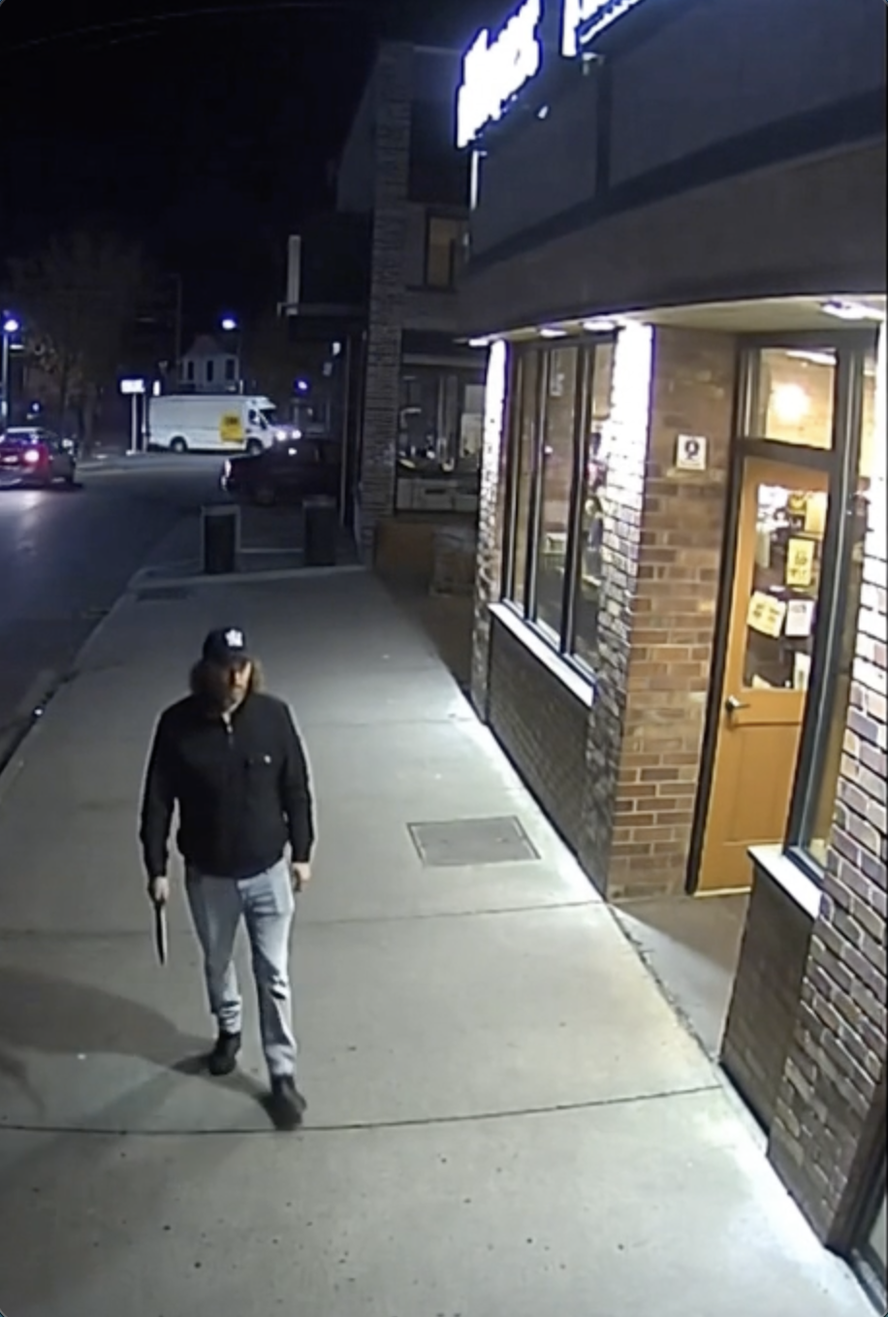Heavy Gun: (136, 622, 346, 1136)
Knife: (141, 869, 180, 967)
